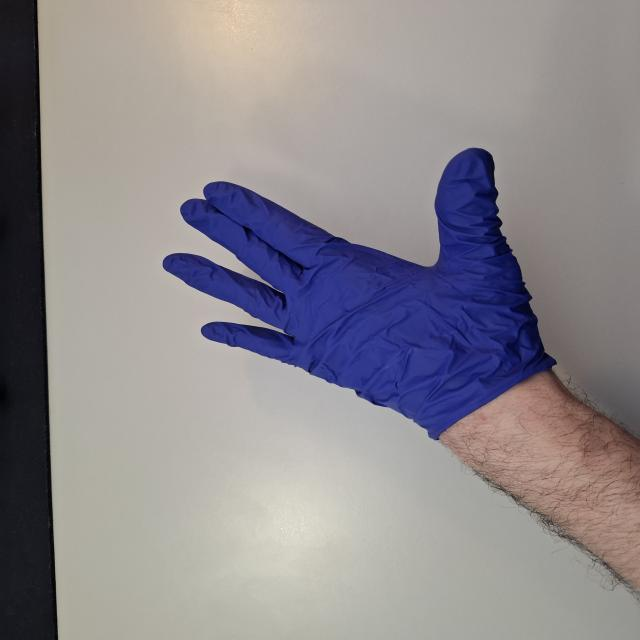glove_on: (158, 146, 561, 425)
